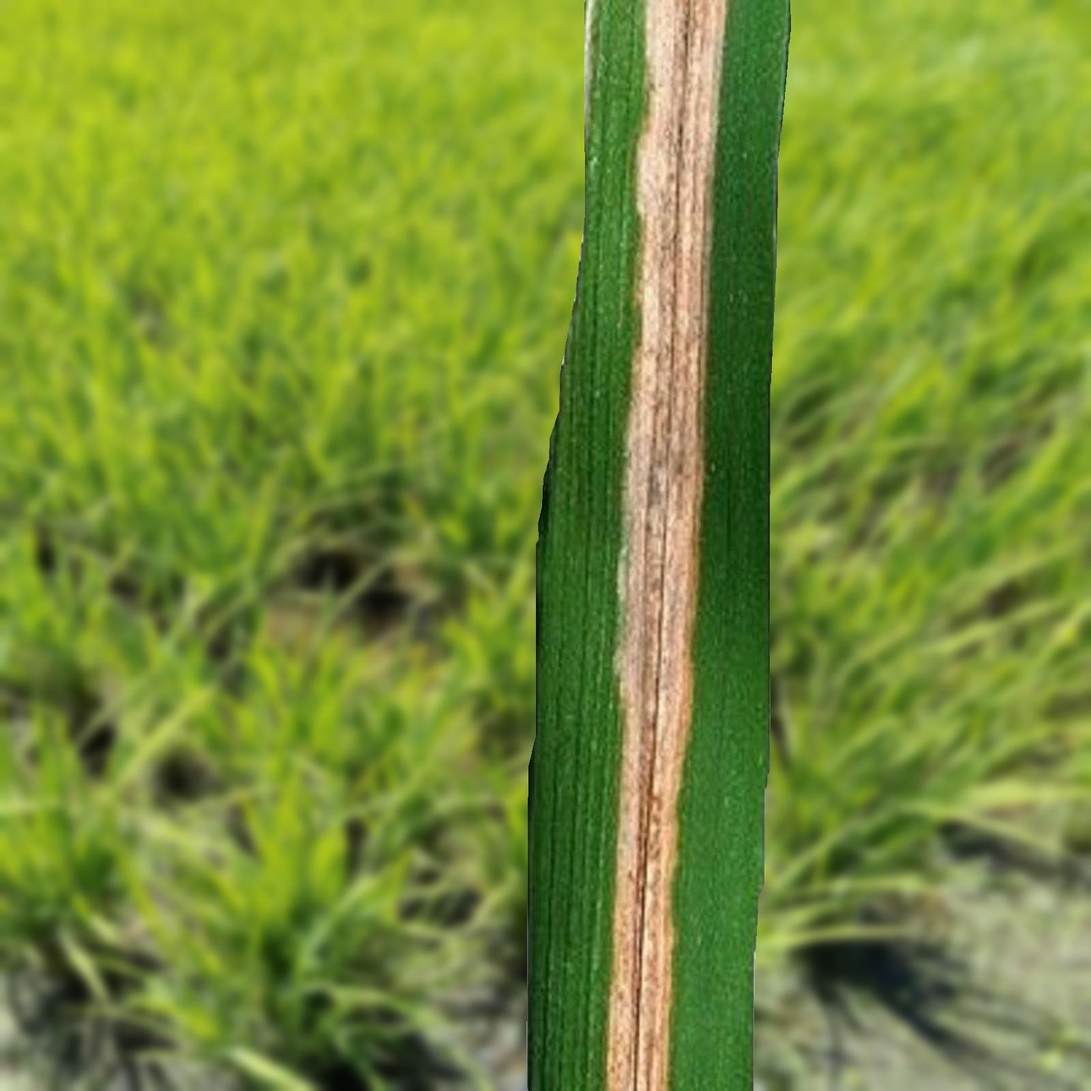BLB: (606, 0, 727, 1090)
LEAF: (526, 0, 790, 1090)
